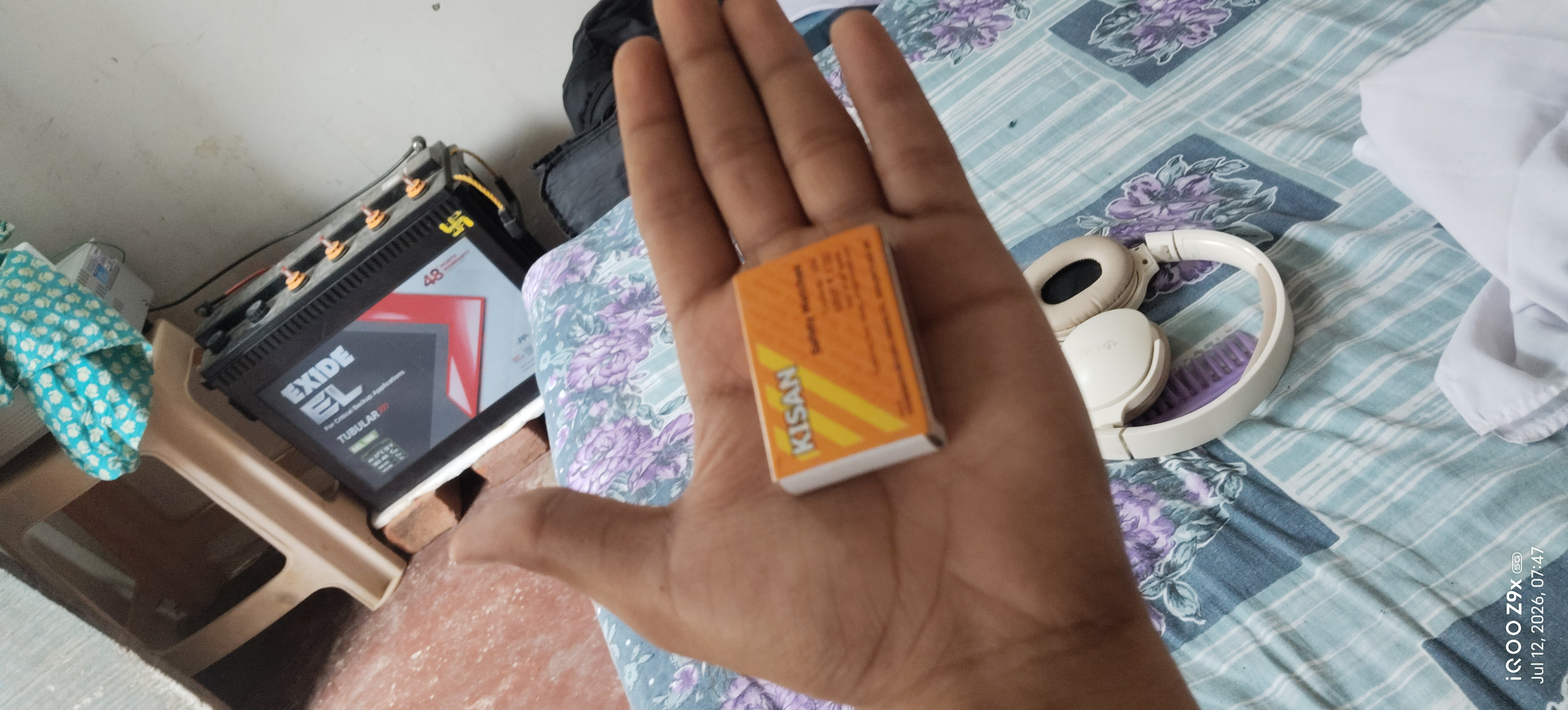matchbox: (711, 211, 985, 528)
